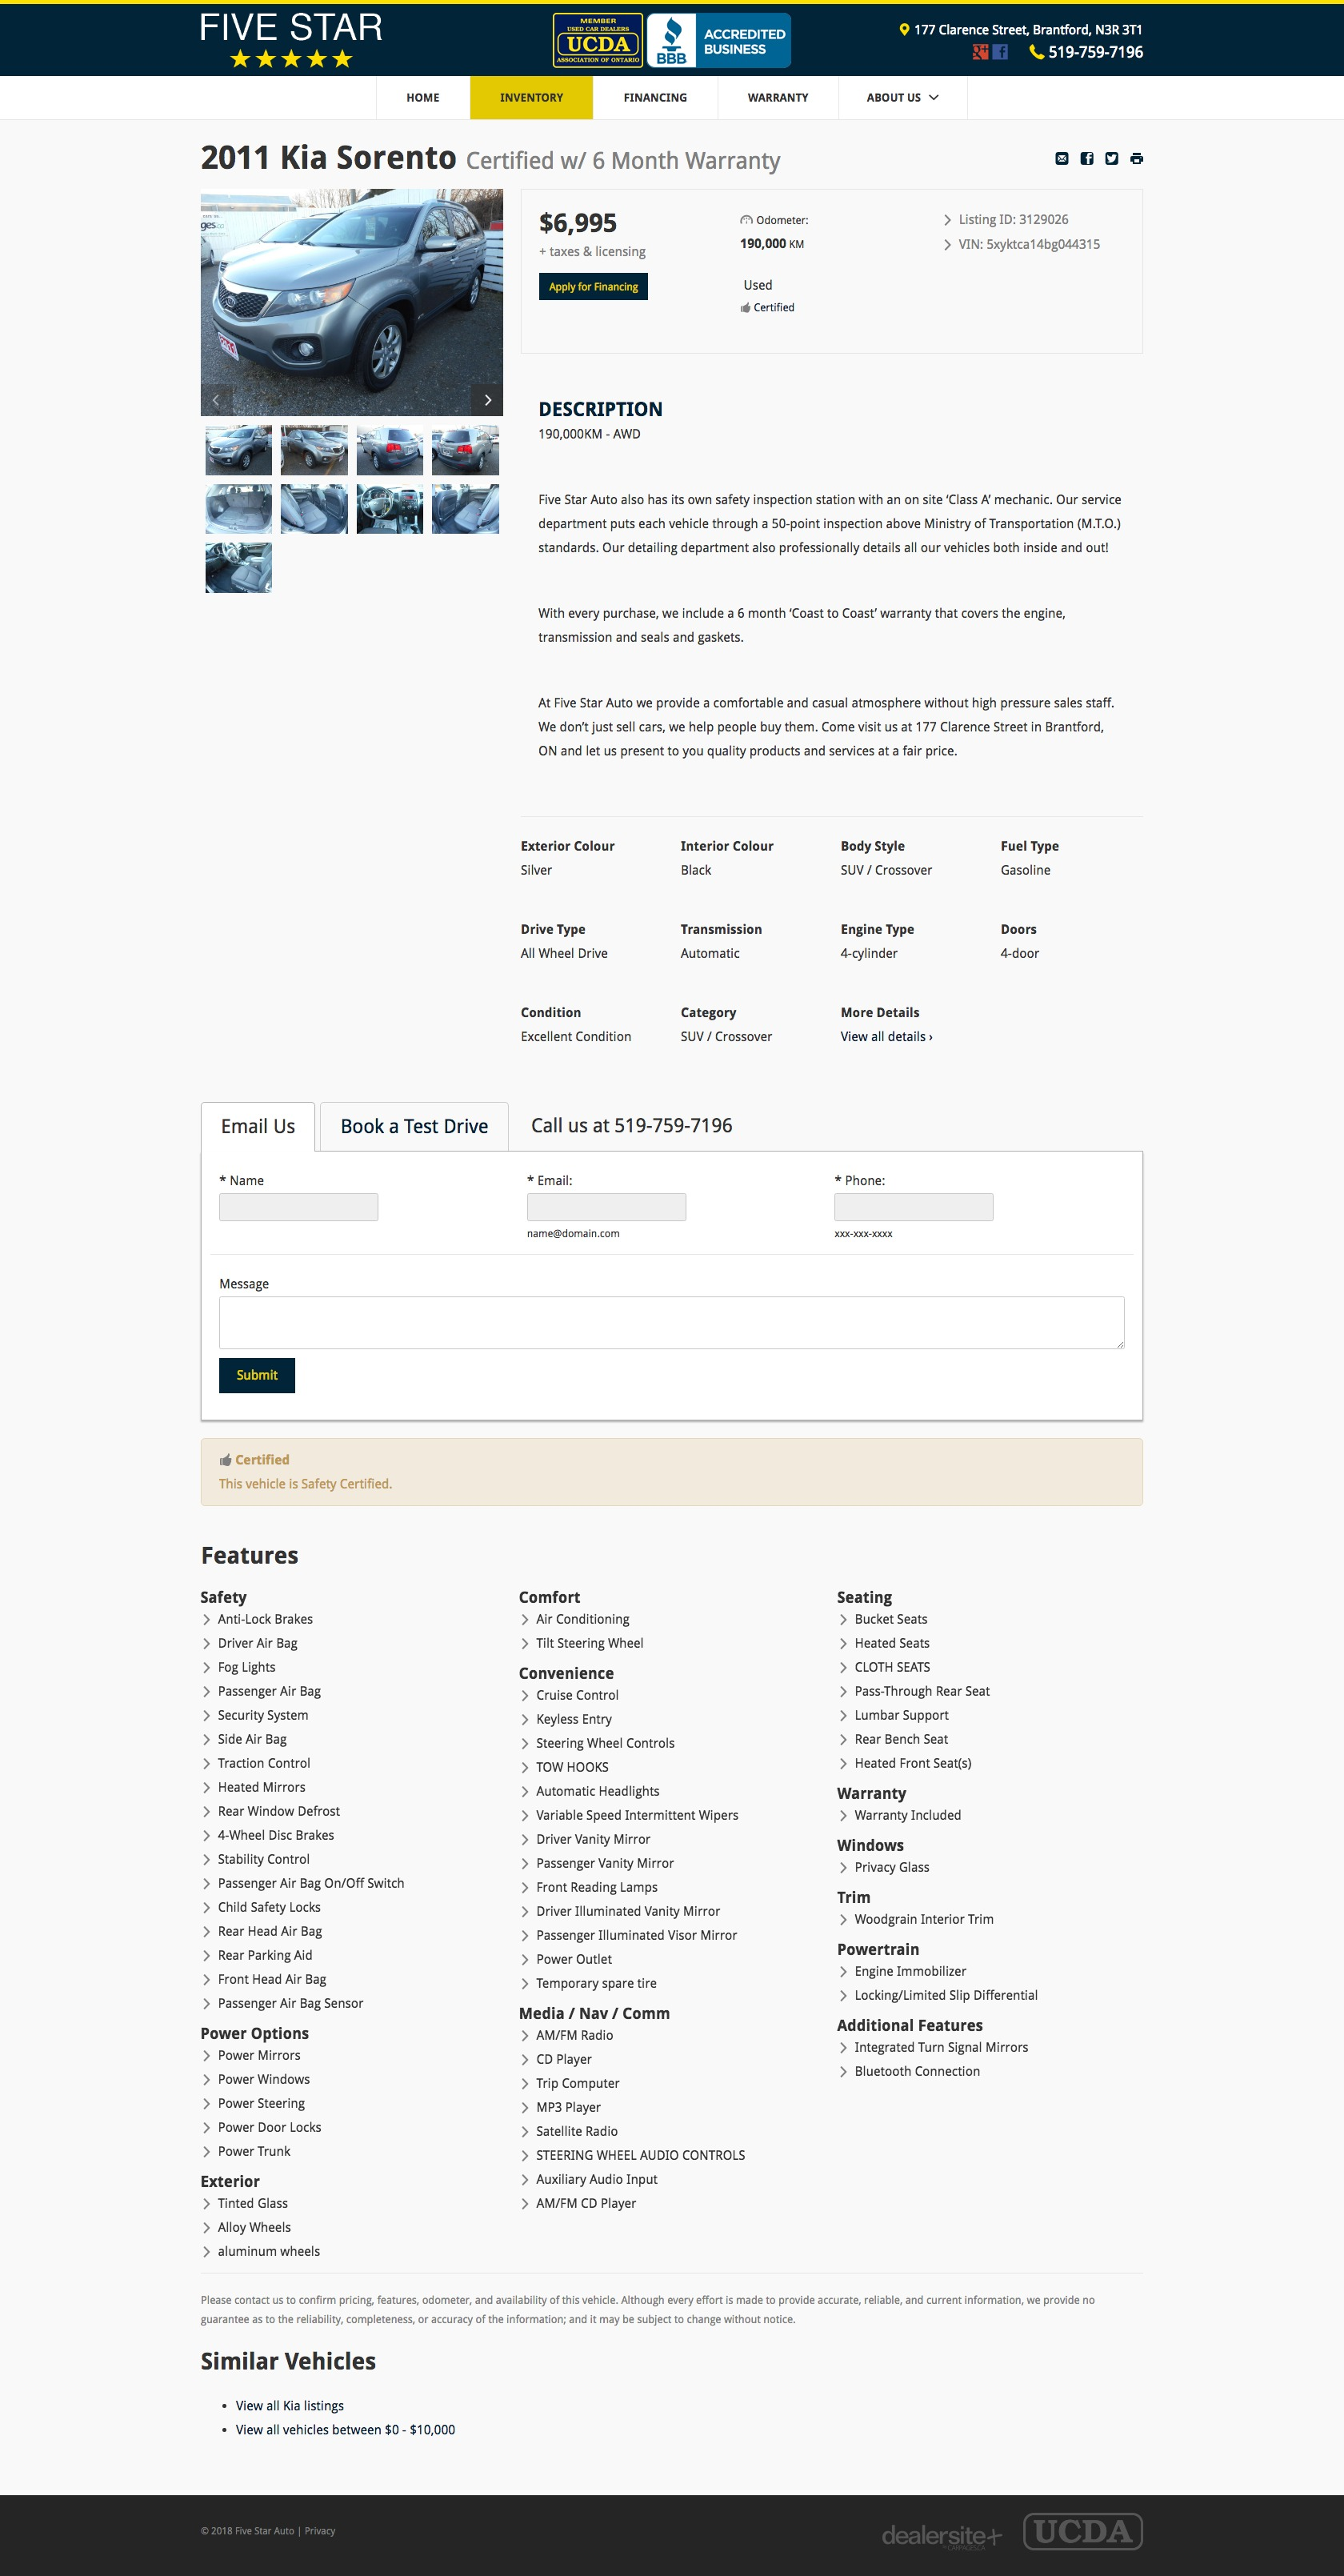car: (468, 383, 506, 416)
